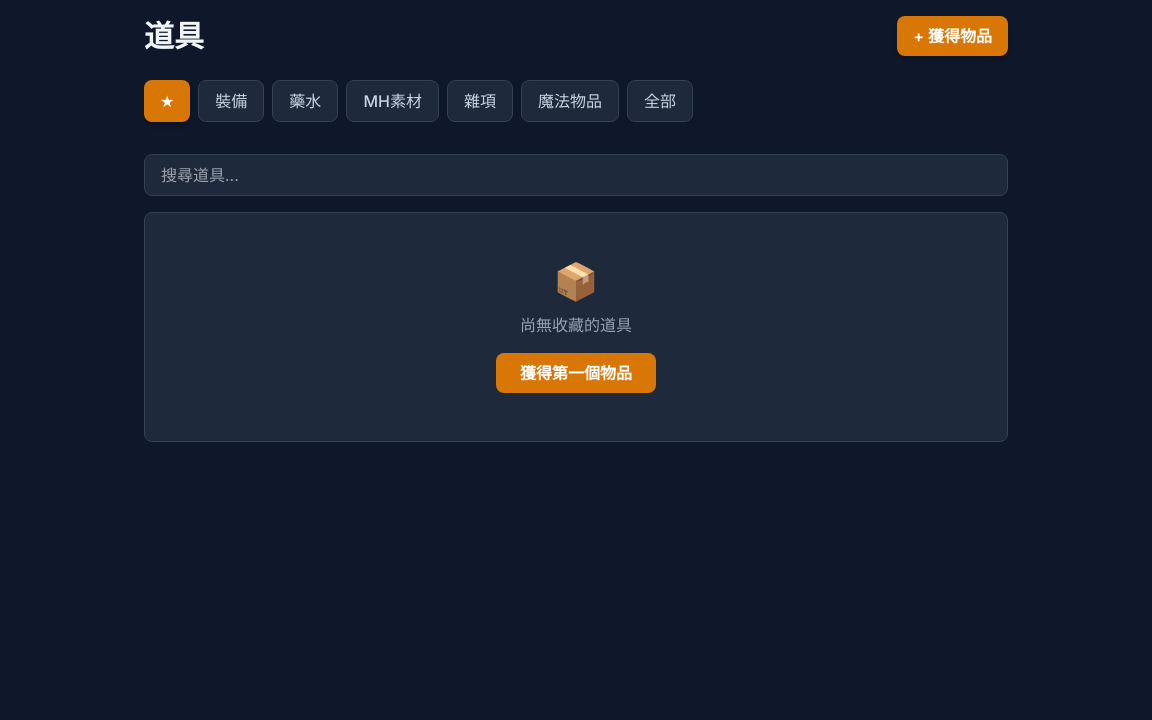
Test: ItemsPage › 點「獲得第一個物品」會打開獲得物品 modal
Click the button "獲得第一個物品" at (576, 373), box [496, 353, 656, 393]
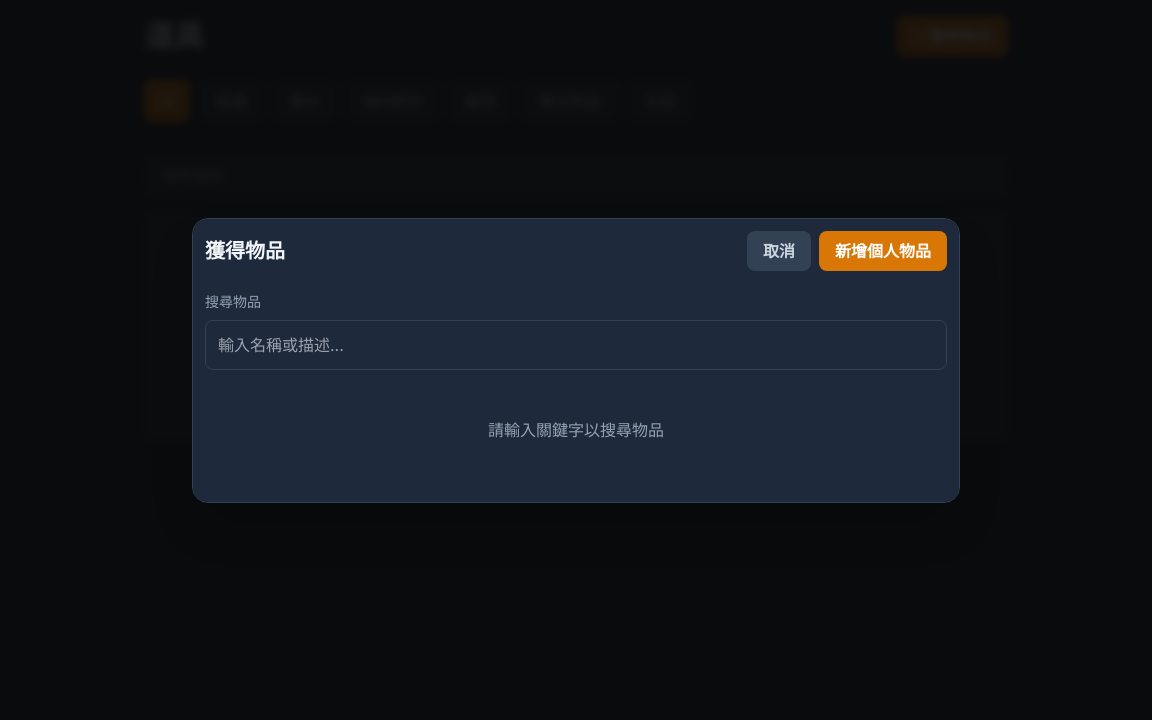
Expected: the heading "獲得物品" is shown, [205, 236, 285, 264]
